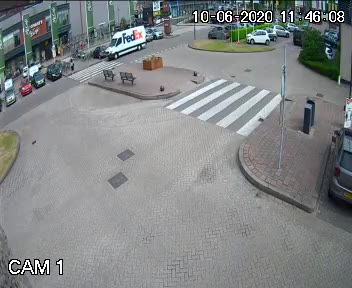car: (104, 29, 155, 55)
